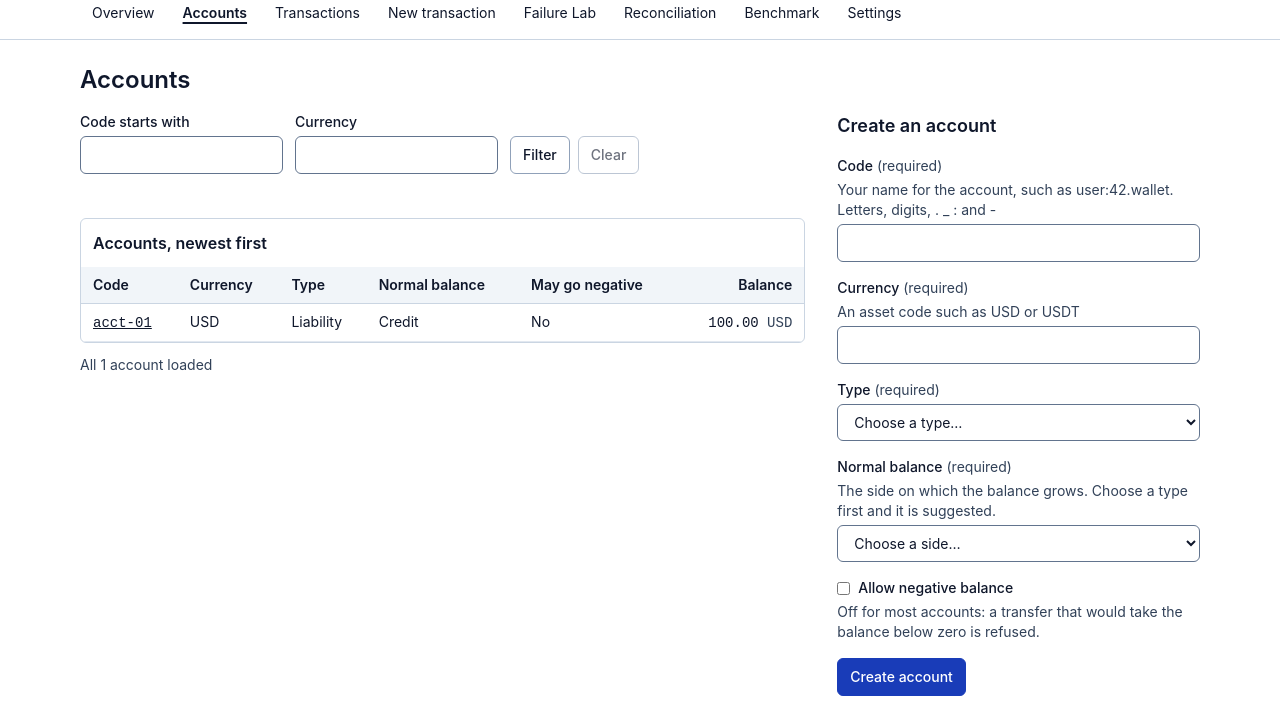
it: the account form › checking before sending › takes an error away when its field is edited, and the summary with the last one
(page scrolled)
Expected: the heading "Accounts" is shown, [80, 64, 190, 96]
Click the button "Create account". click: (902, 677)
box: [837, 658, 966, 696]
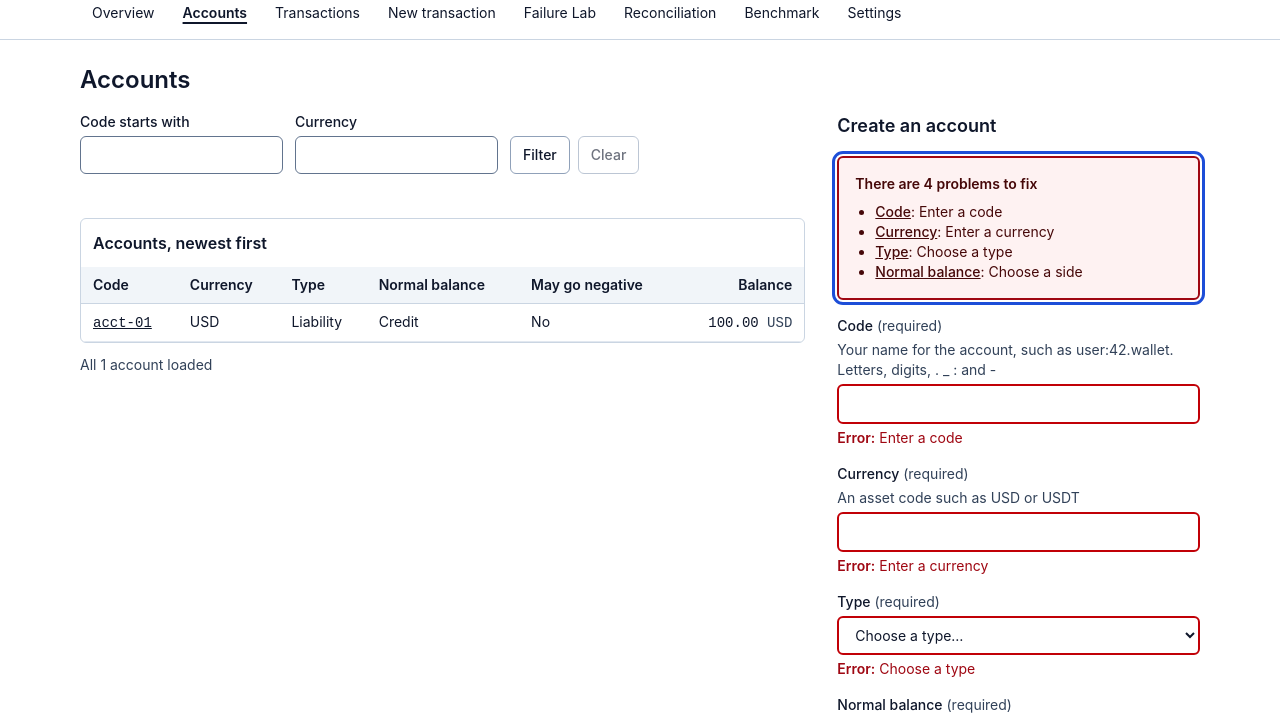
Type "a" into the field labelled "Code (required)". click: (1019, 404)
box: [837, 384, 1200, 424]
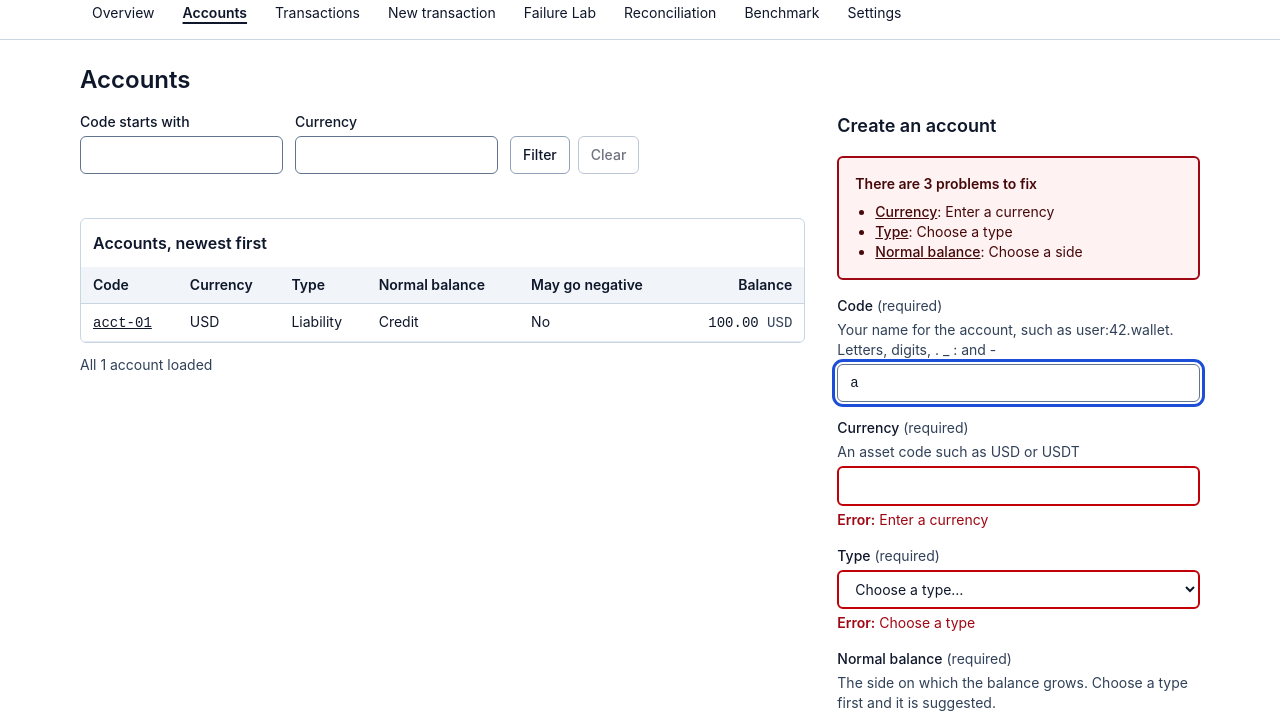
Now the message shows "There are 3 problems to fix", box [855, 175, 1037, 192]
Type "US" into the field labelled "Currency (required)". click: (1019, 486)
box: [837, 466, 1200, 506]
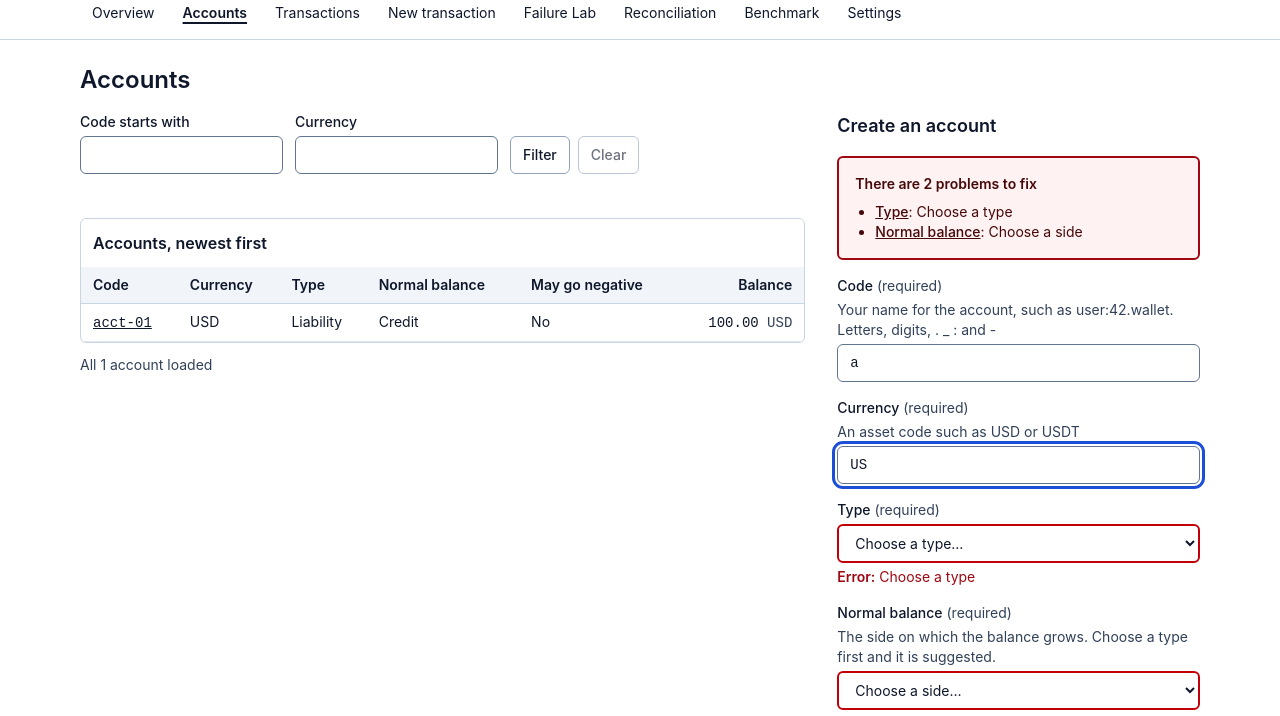
Select "Asset" in the dropdown labelled "Type (required)". click: (1019, 544)
box: [837, 524, 1200, 563]
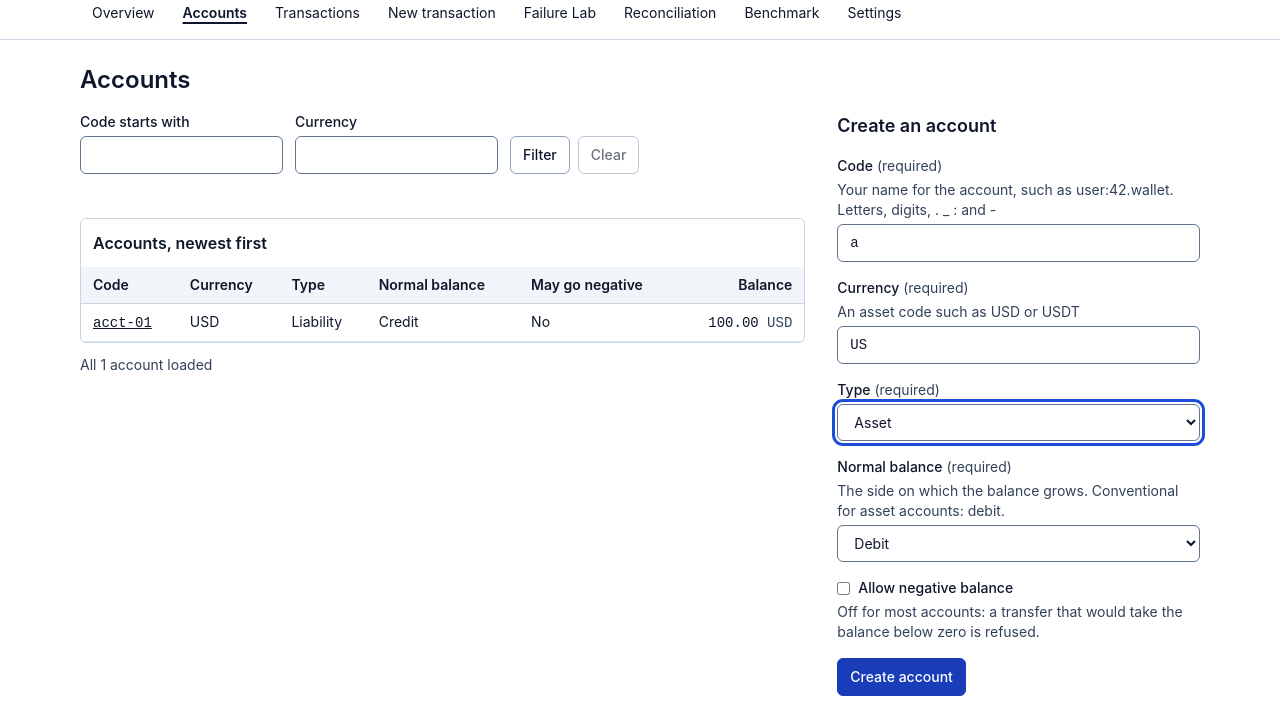
Now the message "There are 2 problems to fix Type : Choose a type Normal balance : Choose a side" is gone
